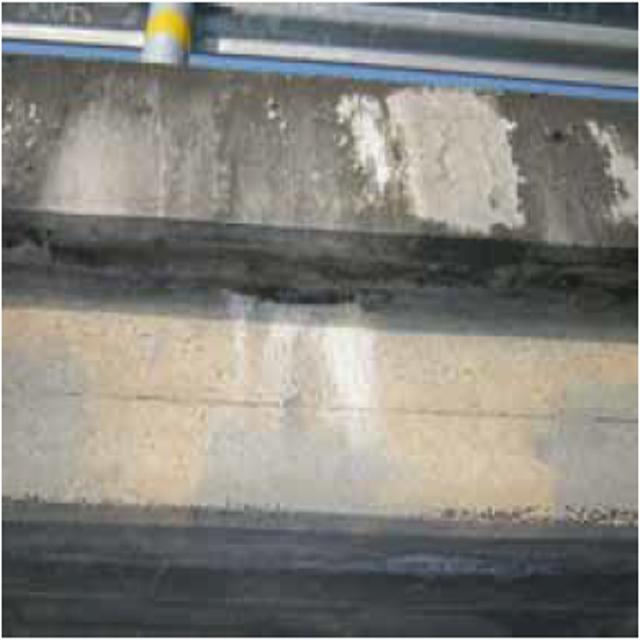freelime: (347, 66, 542, 244), (226, 279, 397, 440)
